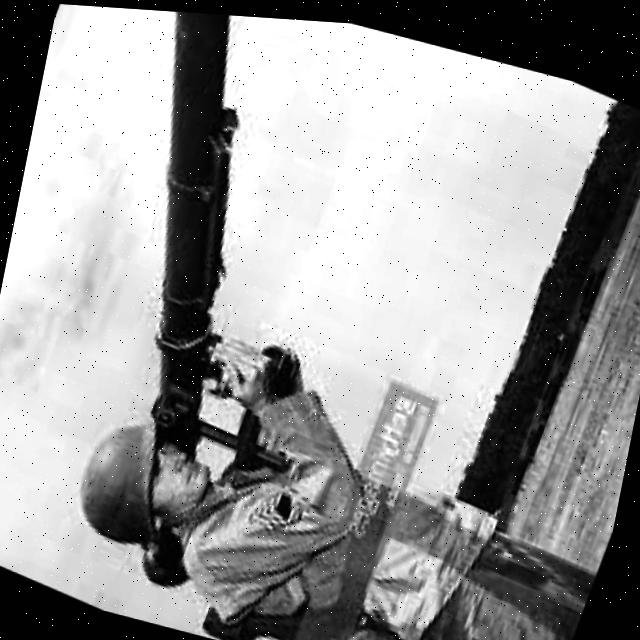rocket: (0, 0, 391, 623)
